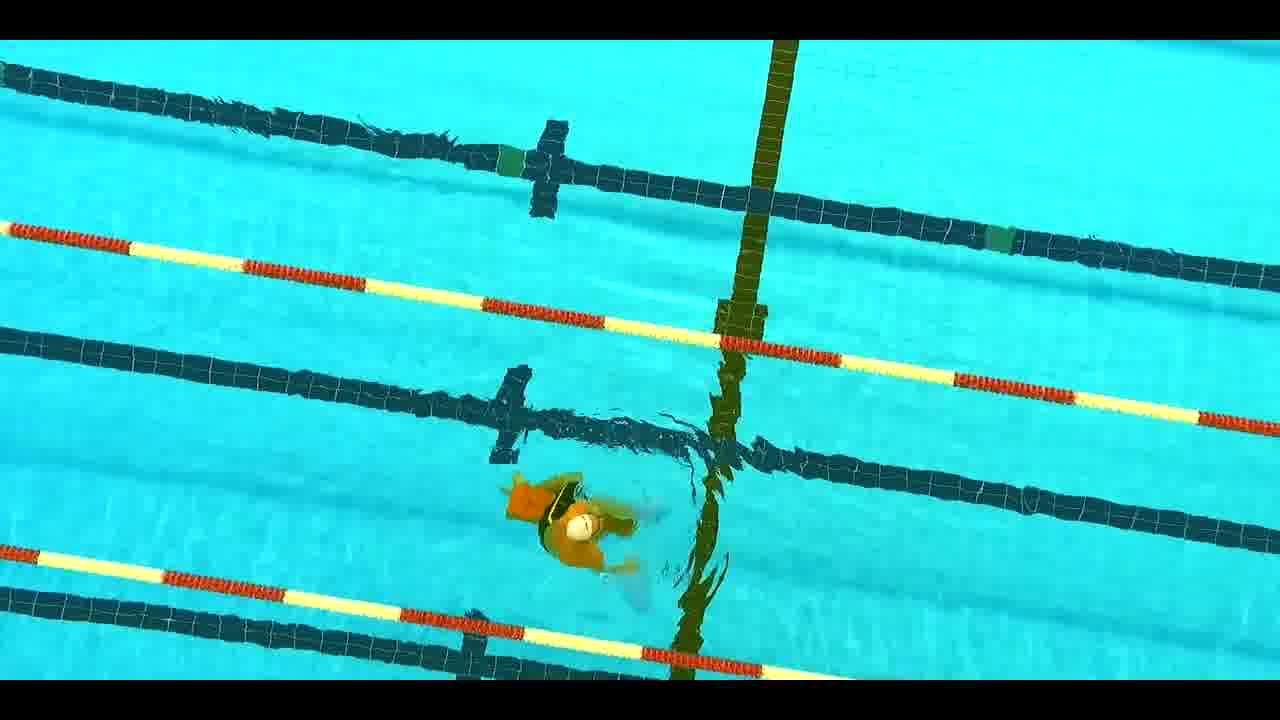human: (494, 459, 672, 587)
